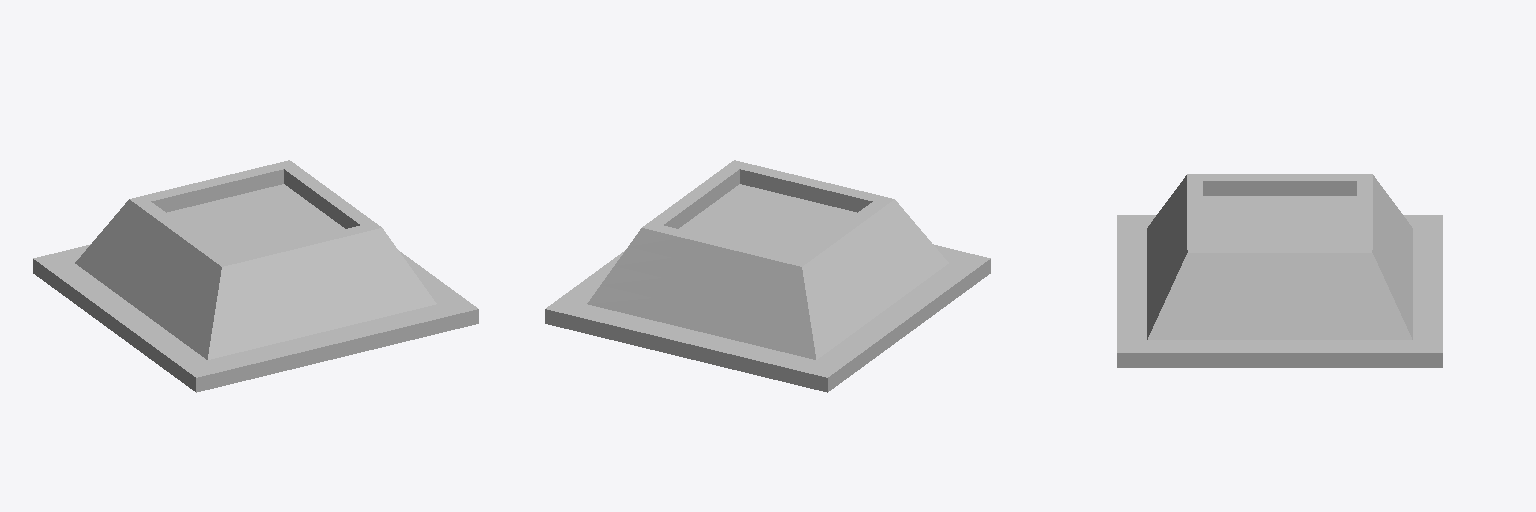
Rendered from choco.obj.
3 views of the same model, side by side, from view 1: azimuth 30°, elevation 25°; view 2: azimuth 150°, elevation 25°; view 3: azimuth 270°, elevation 25° (orthographic).
Visible parts, largest first — view 1: Chocolate_object; view 2: Chocolate_object; view 3: Chocolate_object.
Boxes of the visible parts, x1=… form: Chocolate_object: x1=33, y1=160, x2=478, y2=392; Chocolate_object: x1=545, y1=160, x2=990, y2=392; Chocolate_object: x1=1117, y1=174, x2=1442, y2=367.
Size of the model in its own units: 2 by 0.5752 by 2.